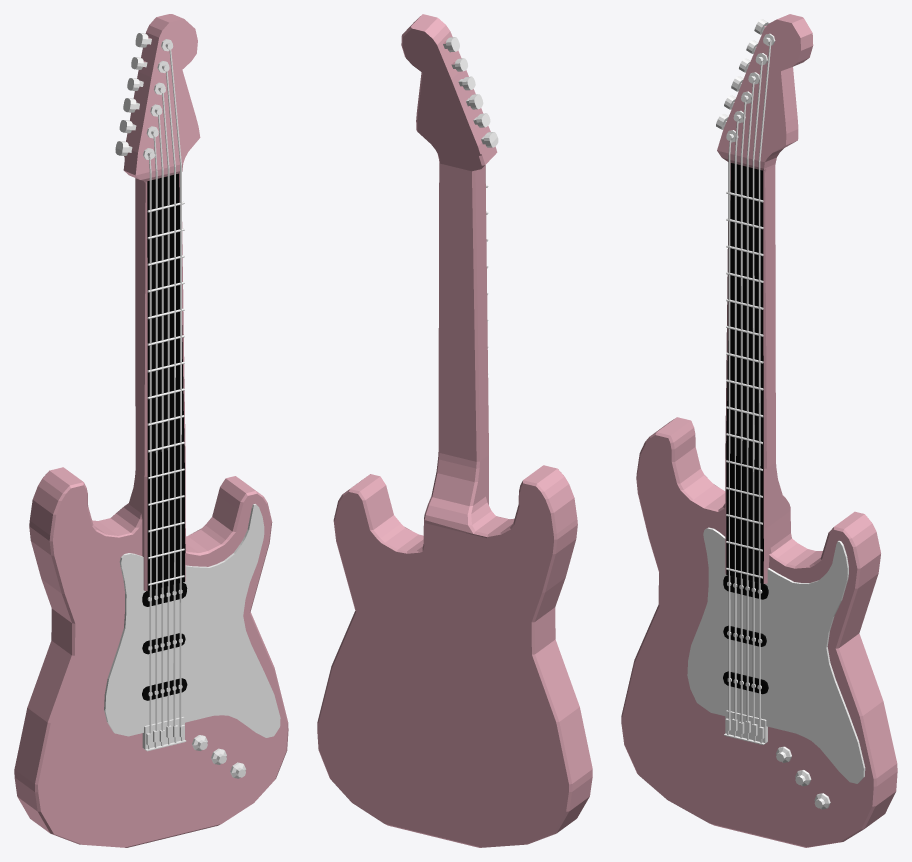
The model's file is GUITAR.fbx.
3 renders of one model, left to right at view 1: azimuth 30°, elevation 25°; view 2: azimuth 150°, elevation 25°; view 3: azimuth 330°, elevation 25°, orthographic.
Parts seen in each view (by area): view 1: Cube, Cylinder.005, Cylinder.002, Cylinder; view 2: Cylinder.005, Cube; view 3: Cube, Cylinder.005, Cylinder.002, Cylinder.
Part boxes in pixels (box(x1,y1,x2,y2)): Cube: box(14, 19, 288, 847); Cylinder.005: box(15, 14, 258, 810); Cylinder.002: box(148, 49, 181, 733); Cylinder: box(148, 202, 184, 585); Cylinder.005: box(317, 14, 592, 847); Cube: box(374, 154, 592, 839); Cube: box(621, 19, 897, 847); Cylinder.005: box(651, 14, 897, 808); Cylinder.002: box(728, 40, 771, 727); Cylinder: box(726, 192, 763, 578).
Bounding box in the file's own units: 150 × 454 × 29.35.
